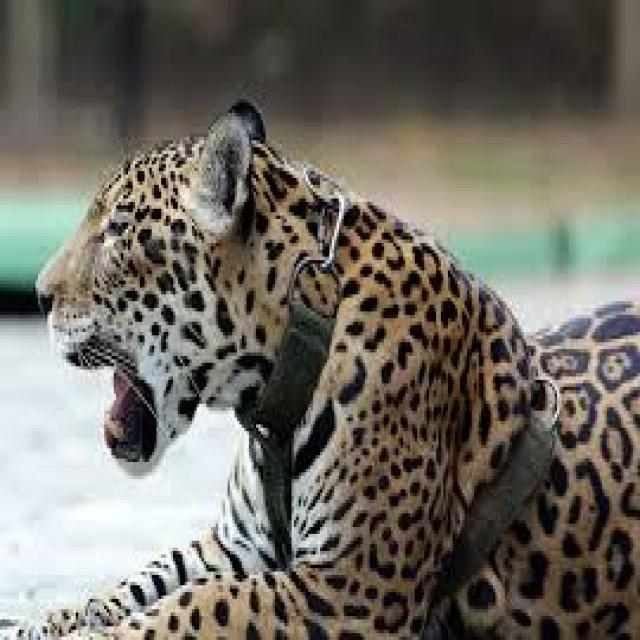Jaguar: (38, 99, 640, 640)
